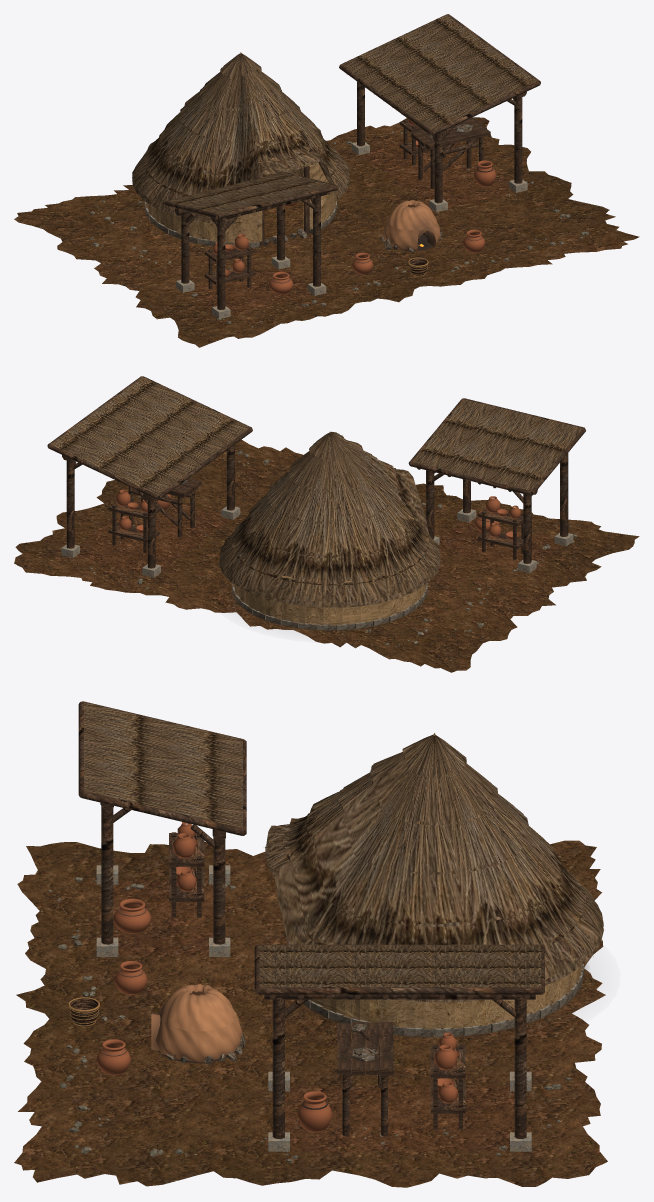
Rendered from pottery_kiln.glb.
The picture shows the model from 3 angles, top to bottom: view 1: azimuth 30°, elevation 25°; view 2: azimuth 150°, elevation 25°; view 3: azimuth 270°, elevation 25°; orthographic projection. The views are drawn at different scales.
Visible parts, largest first — view 1: part_1, part_11, part_6, part_9, part_5, part_12, part_14, part_10, part_4, part_0, part_2; view 2: part_11, part_1, part_6, part_9, part_5, part_12, part_4, part_10, part_2; view 3: part_1, part_11, part_6, part_9, part_12, part_14, part_5, part_4, part_10, part_2.
Boxes of the visible parts, bbox=[...] form: part_1: bbox=[14, 117, 639, 347]; part_11: bbox=[132, 14, 538, 224]; part_6: bbox=[164, 14, 540, 309]; part_9: bbox=[186, 139, 513, 315]; part_5: bbox=[146, 148, 336, 242]; part_12: bbox=[213, 119, 496, 294]; part_14: bbox=[272, 199, 482, 283]; part_10: bbox=[176, 142, 527, 318]; part_4: bbox=[144, 124, 472, 251]; part_0: bbox=[264, 174, 303, 243]; part_2: bbox=[89, 131, 589, 327]; part_11: bbox=[50, 377, 582, 607]; part_1: bbox=[14, 439, 639, 672]; part_6: bbox=[47, 376, 585, 568]; part_9: bbox=[75, 500, 562, 573]; part_5: bbox=[233, 569, 426, 625]; part_12: bbox=[116, 460, 520, 540]; part_4: bbox=[181, 480, 427, 630]; part_10: bbox=[61, 496, 573, 577]; part_2: bbox=[89, 450, 577, 647]; part_1: bbox=[14, 840, 607, 1187]; part_11: bbox=[84, 702, 603, 1002]; part_6: bbox=[78, 701, 544, 1139]; part_9: bbox=[113, 880, 514, 1151]; part_12: bbox=[96, 822, 459, 1132]; part_14: bbox=[101, 907, 242, 1062]; part_5: bbox=[310, 935, 582, 1028]; part_4: bbox=[167, 964, 584, 1064]; part_10: bbox=[96, 865, 531, 1151]; part_2: bbox=[47, 875, 571, 1162].
Size of the model in its own units: 9.13 by 3.03 by 6.95.
Materials: 18 (12 with a texture image).
